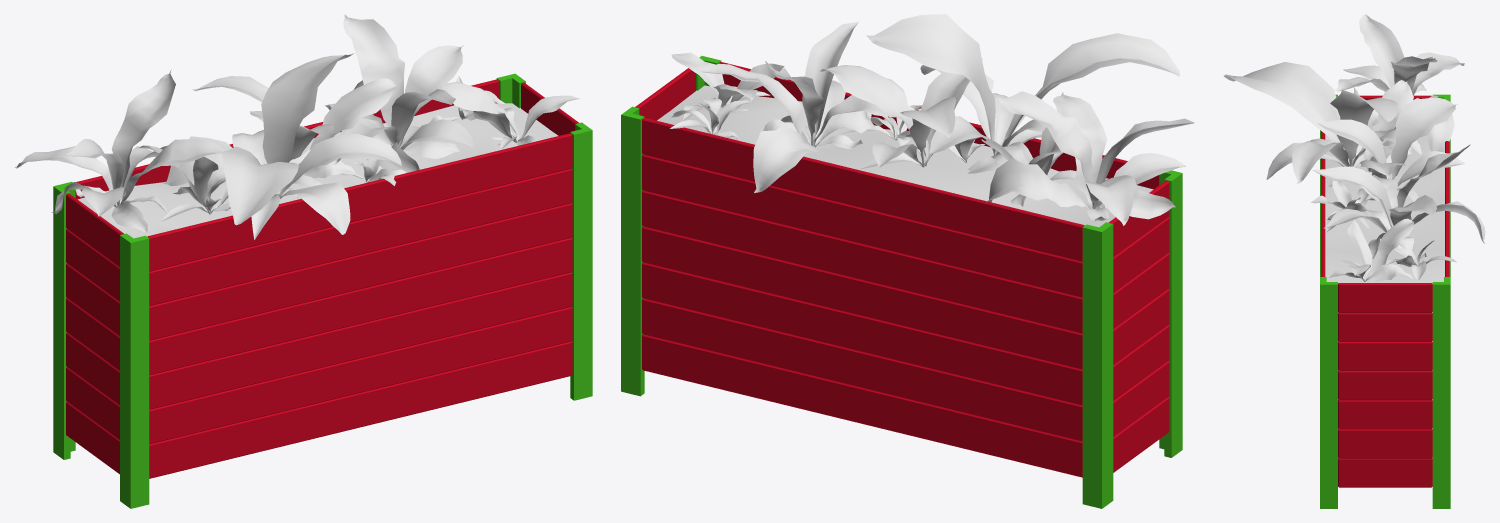
Rendered from CafePlanter.fbx.
3 renders of one model, left to right at view 1: azimuth 30°, elevation 25°; view 2: azimuth 150°, elevation 25°; view 3: azimuth 270°, elevation 25°, orthographic. The views are drawn at different scales.
Parts seen in each view (by area): view 1: CafePlanter, anthurium_botany_01_a, anthurium_botany_01_b.001, anthurium_botany_01_b, CafePlanter_Soil, anthurium_botany_01_c, anthurium_botany_04_d.001, anthurium_botany_04_d, anthurium_botany_06_f; view 2: CafePlanter, anthurium_botany_01_a, anthurium_botany_01_b, CafePlanter_Soil, anthurium_botany_01_b.001, anthurium_botany_01_c, anthurium_botany_04_d.001, anthurium_botany_04_d, anthurium_botany_06_f.001, anthurium_botany_06_f; view 3: CafePlanter, anthurium_botany_01_a, CafePlanter_Soil, anthurium_botany_01_b.001, anthurium_botany_01_b, anthurium_botany_01_c, anthurium_botany_04_d.001, anthurium_botany_04_d, anthurium_botany_06_f.001, anthurium_botany_06_f.
Boxes of the visible parts, bbox=[...] form: CafePlanter: bbox=[53, 73, 592, 508]; anthurium_botany_01_a: bbox=[163, 53, 401, 239]; anthurium_botany_01_b.001: bbox=[325, 14, 474, 172]; anthurium_botany_01_b: bbox=[14, 70, 225, 232]; CafePlanter_Soil: bbox=[78, 103, 558, 238]; anthurium_botany_01_c: bbox=[192, 76, 398, 178]; anthurium_botany_04_d.001: bbox=[442, 81, 579, 149]; anthurium_botany_04_d: bbox=[136, 145, 230, 221]; anthurium_botany_06_f: bbox=[341, 144, 406, 185]; CafePlanter: bbox=[621, 56, 1182, 508]; anthurium_botany_01_a: bbox=[866, 14, 1179, 164]; anthurium_botany_01_b: bbox=[986, 91, 1194, 225]; CafePlanter_Soil: bbox=[657, 85, 1153, 227]; anthurium_botany_01_b.001: bbox=[697, 21, 914, 192]; anthurium_botany_01_c: bbox=[819, 58, 982, 168]; anthurium_botany_04_d.001: bbox=[671, 52, 784, 120]; anthurium_botany_04_d: bbox=[967, 127, 1076, 206]; anthurium_botany_06_f.001: bbox=[670, 97, 752, 140]; anthurium_botany_06_f: bbox=[841, 105, 922, 146]; CafePlanter: bbox=[1320, 94, 1450, 508]; anthurium_botany_01_a: bbox=[1223, 62, 1421, 184]; CafePlanter_Soil: bbox=[1325, 123, 1444, 283]; anthurium_botany_01_b.001: bbox=[1312, 144, 1485, 258]; anthurium_botany_01_b: bbox=[1334, 14, 1464, 151]; anthurium_botany_01_c: bbox=[1317, 98, 1464, 203]; anthurium_botany_04_d.001: bbox=[1329, 218, 1414, 282]; anthurium_botany_04_d: bbox=[1354, 80, 1413, 163]; anthurium_botany_06_f.001: bbox=[1385, 240, 1456, 280]; anthurium_botany_06_f: bbox=[1311, 180, 1375, 232].
Bounding box in the file's own units: 220 × 156 × 117.
